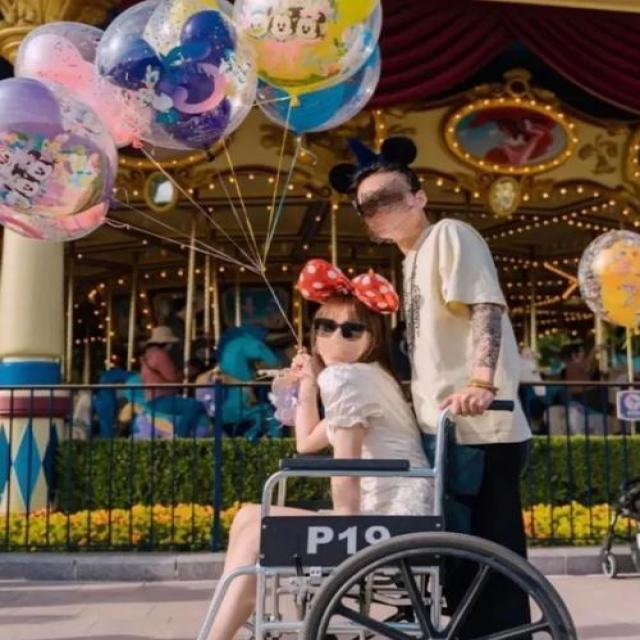wheelchairs: (166, 370, 582, 640)
